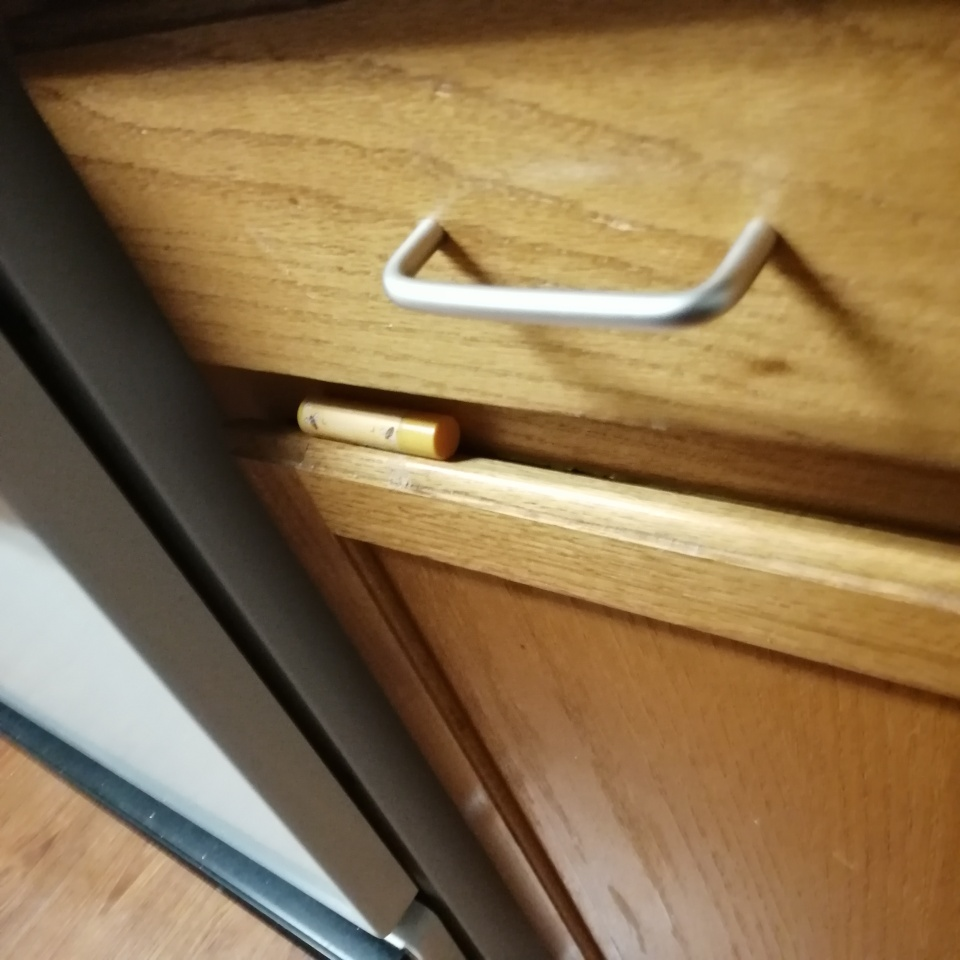chapstick: (296, 393, 462, 462)
